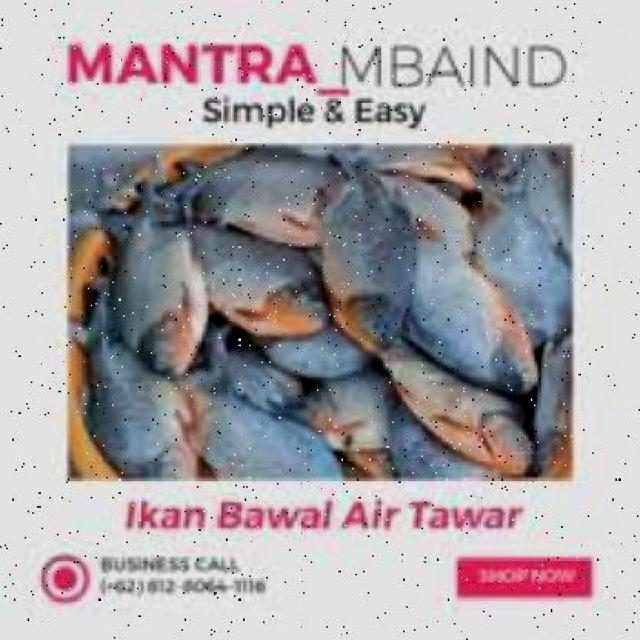ikan-pacu: (77, 314, 206, 477), (410, 242, 544, 388), (113, 201, 220, 377), (319, 162, 413, 346), (189, 220, 325, 337)
